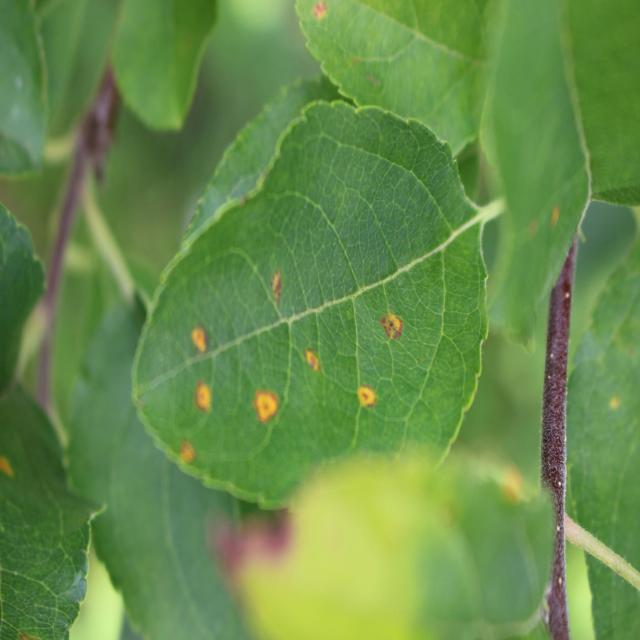Rust: (163, 288, 224, 370), (260, 250, 303, 328), (375, 299, 419, 363), (156, 432, 212, 482), (246, 365, 282, 438), (190, 381, 223, 432), (296, 344, 328, 388), (346, 383, 384, 419)
